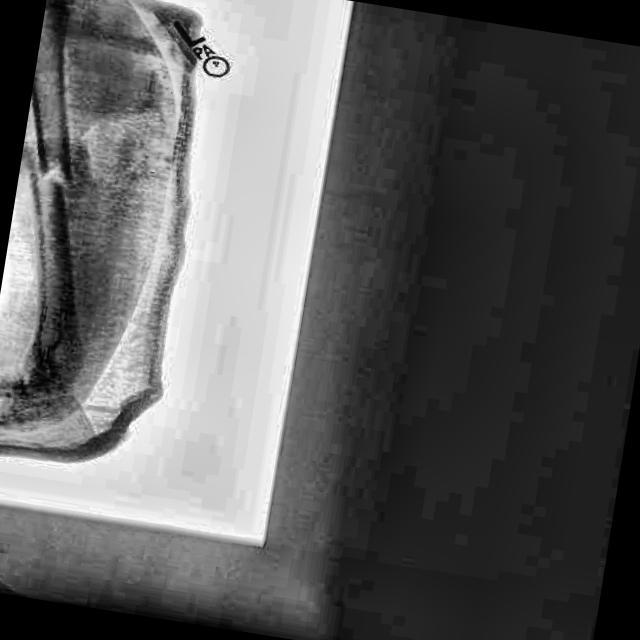humerus: (20, 102, 109, 228)
